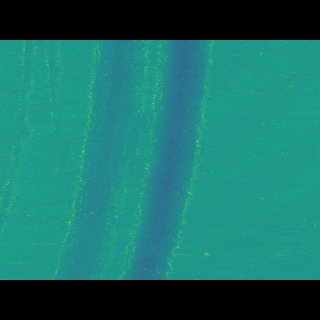Loch: (52, 70, 215, 249), (0, 69, 43, 210)
